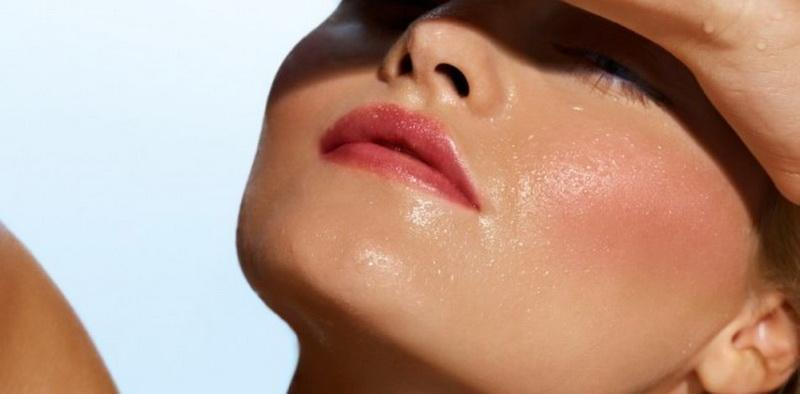Oily-Skin: (479, 158, 614, 266), (352, 236, 408, 288), (407, 190, 444, 232)
